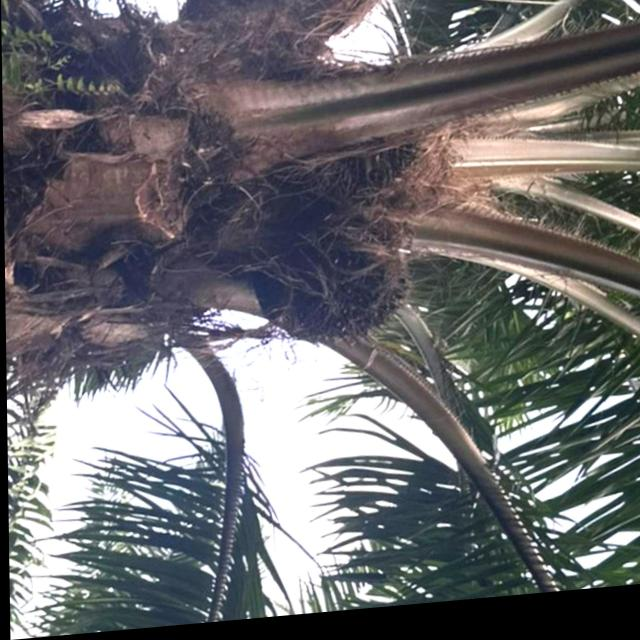unripe: (258, 216, 413, 359)
